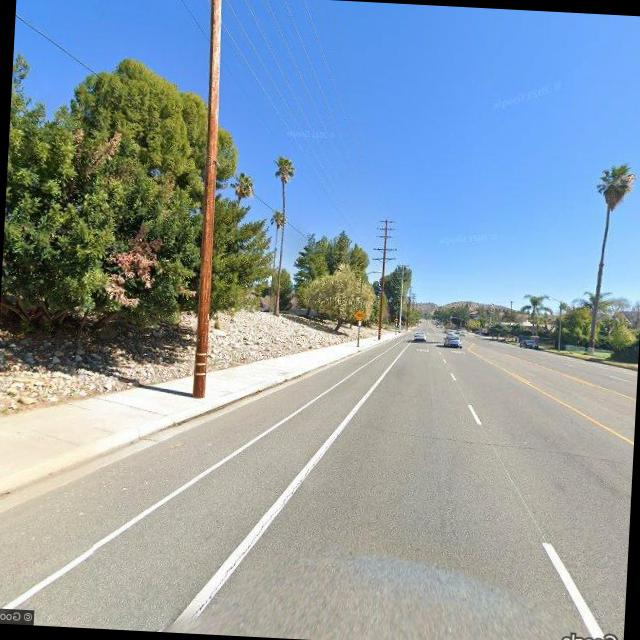crack: (198, 436, 328, 616), (362, 421, 610, 464)
